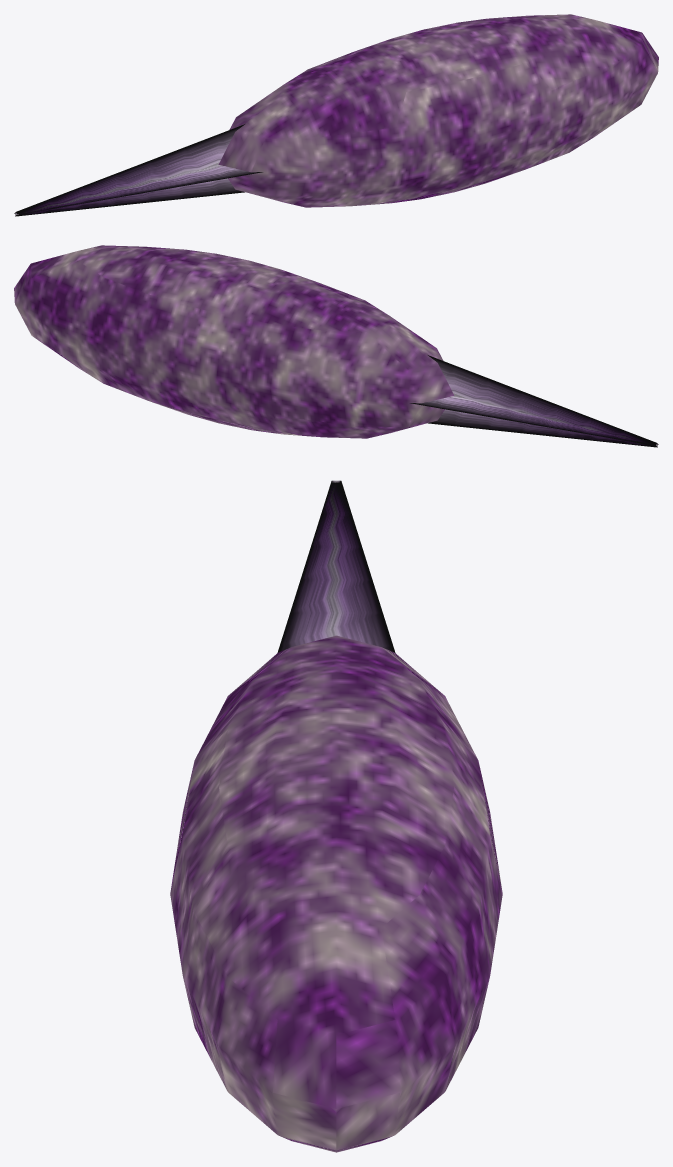
The model's file is shot_spiral.glb.
The picture shows the model from 3 angles, top to bottom: view 1: azimuth 30°, elevation 25°; view 2: azimuth 150°, elevation 25°; view 3: azimuth 270°, elevation 25°; orthographic projection. The views are drawn at different scales.
Visible parts, largest first — view 1: spiral_shell, spiral_trail; view 2: spiral_shell, spiral_trail; view 3: spiral_shell, spiral_trail.
Boxes of the visible parts, bbox=[...] form: spiral_shell: bbox=[218, 14, 658, 207]; spiral_trail: bbox=[14, 124, 262, 216]; spiral_shell: bbox=[14, 245, 454, 438]; spiral_trail: bbox=[410, 355, 658, 447]; spiral_shell: bbox=[170, 635, 502, 1152]; spiral_trail: bbox=[277, 480, 395, 652].
Size of the model in its own units: 7.6 by 1.7 by 1.7.
4 materials, 4 textured.
